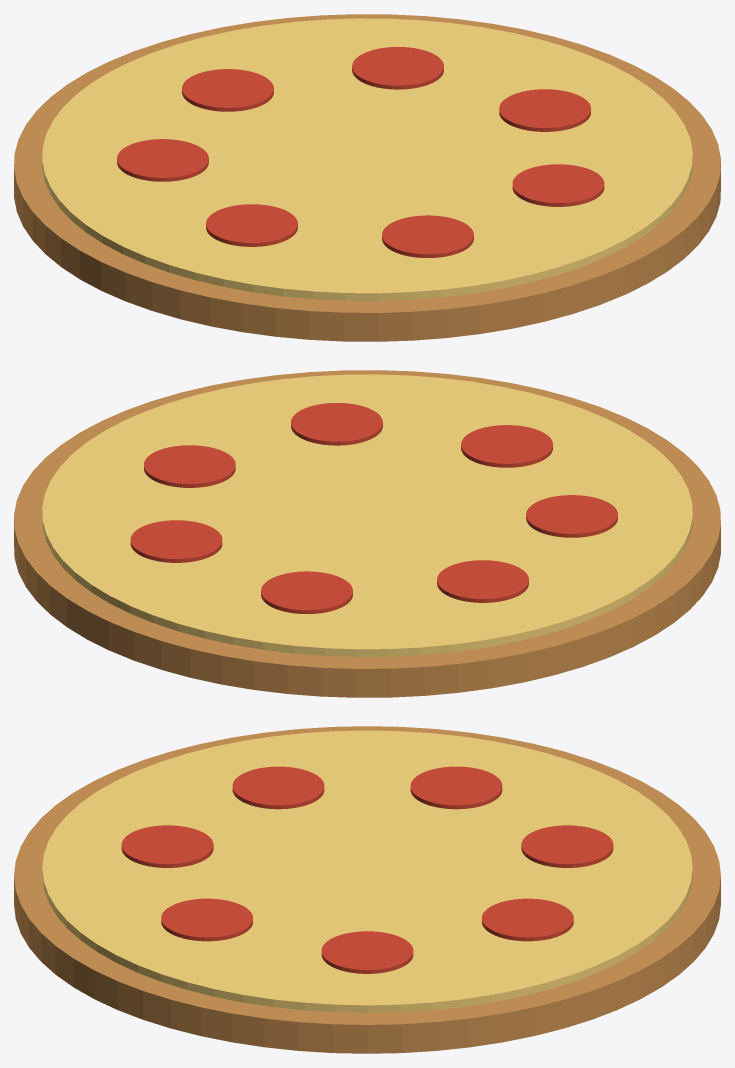
The model's file is pizza-32.glb.
3 views of the same model, one above another, from view 1: azimuth 30°, elevation 25°; view 2: azimuth 150°, elevation 25°; view 3: azimuth 270°, elevation 25° (orthographic).
Visible parts, largest first — view 1: Possistem metre-scale floor origin; view 2: Possistem metre-scale floor origin; view 3: Possistem metre-scale floor origin.
Boxes of the visible parts, x1,y1,x2,y2 form: Possistem metre-scale floor origin: [14, 14, 720, 341]; Possistem metre-scale floor origin: [14, 370, 720, 697]; Possistem metre-scale floor origin: [14, 726, 720, 1053].
Size of the model in its own units: 0.32 by 0.0202 by 0.32.
